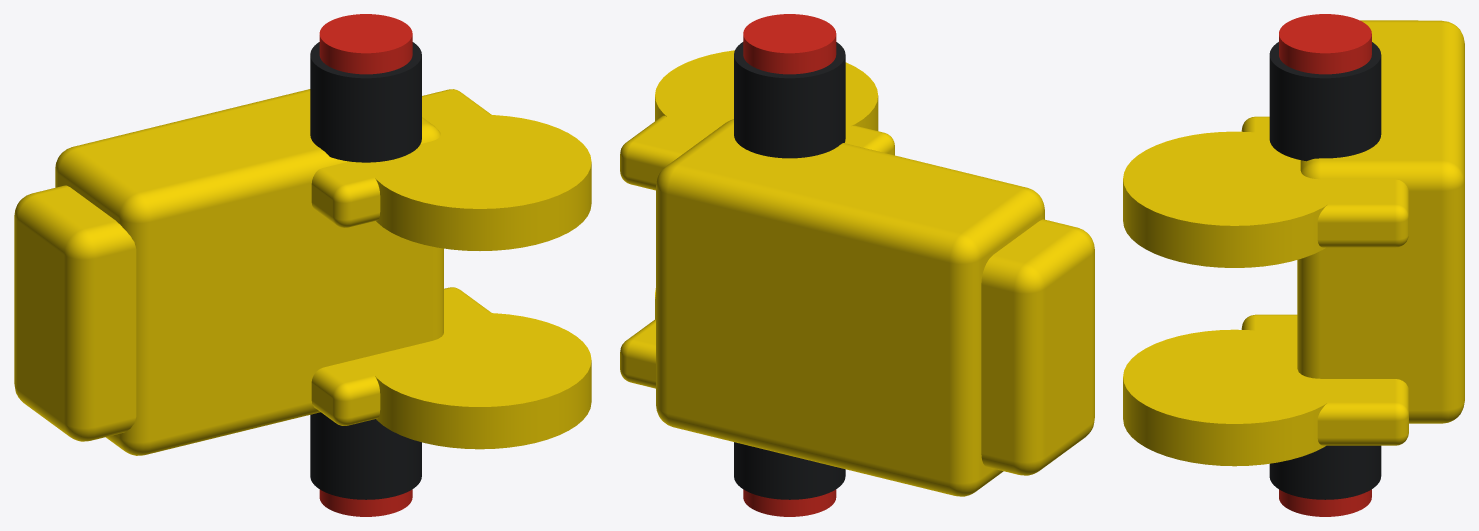
The picture shows the model from 3 angles, left to right: view 1: azimuth 30°, elevation 25°; view 2: azimuth 150°, elevation 25°; view 3: azimuth 270°, elevation 25°; orthographic projection.
Visible parts, largest first — view 1: turret, turret_rear, j2_reducer_l, j2_reducer_r, motor_l, j2_cheek_r, motor_r, j2_cheek_l, motor_cover_l, motor_cover_r; view 2: turret, turret_rear, motor_l, j2_reducer_l, j2_cheek_l, motor_cover_l, motor_r, j2_cheek_r, motor_cover_r; view 3: turret, j2_reducer_l, j2_reducer_r, motor_l, j2_cheek_r, j2_cheek_l, motor_r, motor_cover_l, motor_cover_r.
Boxes of the visible parts, box(x1,y1,x2,y2) form: turret: box(55, 89, 443, 455); turret_rear: box(14, 185, 136, 441); j2_reducer_l: box(375, 115, 591, 250); j2_reducer_r: box(373, 312, 591, 449); motor_l: box(310, 42, 421, 162); j2_cheek_r: box(311, 287, 521, 425); motor_r: box(310, 412, 421, 499); j2_cheek_l: box(311, 89, 503, 227); motor_cover_l: box(319, 14, 412, 74); motor_cover_r: box(319, 489, 412, 516); turret: box(656, 119, 1044, 496); turret_rear: box(981, 219, 1094, 475); motor_l: box(734, 42, 845, 158); j2_reducer_l: box(655, 50, 878, 135); j2_cheek_l: box(620, 90, 894, 190); motor_cover_l: box(743, 14, 836, 74); motor_r: box(734, 442, 845, 499); j2_cheek_r: box(620, 319, 655, 388); motor_cover_r: box(743, 489, 836, 516); turret: box(1297, 20, 1464, 423); j2_reducer_l: box(1123, 131, 1345, 267); j2_reducer_r: box(1123, 329, 1345, 466); motor_l: box(1269, 42, 1381, 161); j2_cheek_r: box(1241, 314, 1408, 445); j2_cheek_l: box(1241, 116, 1408, 247); motor_r: box(1269, 445, 1381, 499); motor_cover_l: box(1279, 14, 1371, 74); motor_cover_r: box(1279, 489, 1371, 516).
Bounding box in the file's own units: 1.16 × 1.1 × 0.735.
